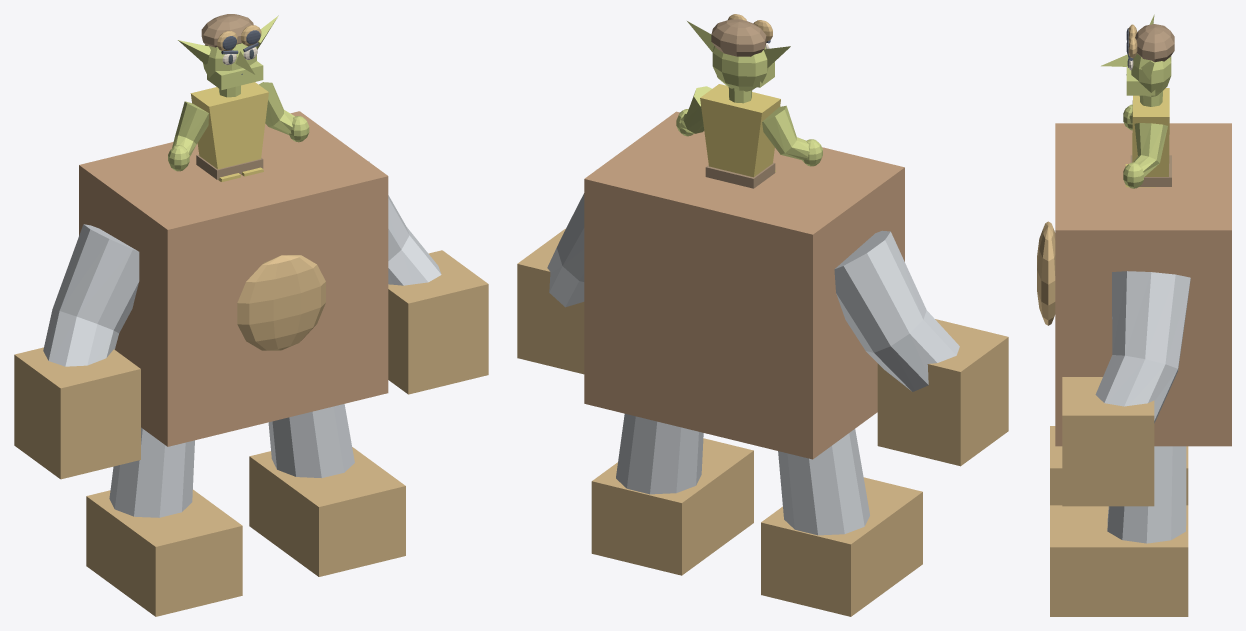
The model's file is scrap-boss.glb.
The picture shows the model from 3 angles, left to right: view 1: azimuth 30°, elevation 25°; view 2: azimuth 150°, elevation 25°; view 3: azimuth 270°, elevation 25°; orthographic projection. The views are drawn at different scales.
Parts seen in each view (by area): view 1: mech_body, mech_foot-1, mech_foot1, mech_fist-1, mech_fist1, mech_arm-1, front_dial, mech_leg-1, mech_leg1, torso, mech_arm1, arm_-1 (+5 smaller); view 2: mech_body, mech_foot-1, mech_foot1, mech_fist-1, mech_arm-1, mech_leg-1, mech_fist1, mech_leg1, torso, mech_arm1, head, leather_cap (+3 smaller); view 3: mech_body, mech_foot1, mech_fist1, mech_arm1, mech_leg1, front_dial, torso, arm_1, leather_cap, mech_foot-1, head, hand_1 (+2 smaller).
Boxes of the visible parts, <box> form: mech_body: <box>79,111,388,446</box>; mech_foot-1: <box>86,489,242,616</box>; mech_foot1: <box>249,447,405,576</box>; mech_fist-1: <box>14,347,140,479</box>; mech_fist1: <box>388,250,488,394</box>; mech_arm-1: <box>43,224,139,366</box>; front_dial: <box>237,255,325,350</box>; mech_leg-1: <box>109,427,194,517</box>; mech_leg1: <box>268,404,354,478</box>; torso: <box>190,82,268,169</box>; mech_arm1: <box>369,161,441,285</box>; arm_-1: <box>172,101,209,156</box>; mech_body: <box>584,111,904,459</box>; mech_foot-1: <box>761,477,922,616</box>; mech_foot1: <box>591,438,753,575</box>; mech_fist-1: <box>877,319,1008,466</box>; mech_arm-1: <box>834,230,959,391</box>; mech_leg-1: <box>778,429,869,535</box>; mech_fist1: <box>517,228,584,374</box>; mech_leg1: <box>616,413,703,494</box>; torso: <box>700,84,780,177</box>; mech_arm1: <box>547,169,596,307</box>; head: <box>712,46,768,91</box>; leather_cap: <box>711,19,766,56</box>; mech_body: <box>1055,123,1231,446</box>; mech_foot1: <box>1050,505,1188,616</box>; mech_fist1: <box>1062,377,1154,506</box>; mech_arm1: <box>1095,271,1190,423</box>; mech_leg1: <box>1107,446,1186,543</box>; front_dial: <box>1037,221,1055,325</box>; torso: <box>1132,88,1169,176</box>; arm_1: <box>1133,123,1167,176</box>; leather_cap: <box>1135,24,1174,62</box>; mech_foot-1: <box>1050,426,1188,505</box>; head: <box>1131,53,1171,96</box>; hand_1: <box>1123,162,1143,188</box>.
Bounding box in the file's own units: 1.69 × 2 × 0.6687.
